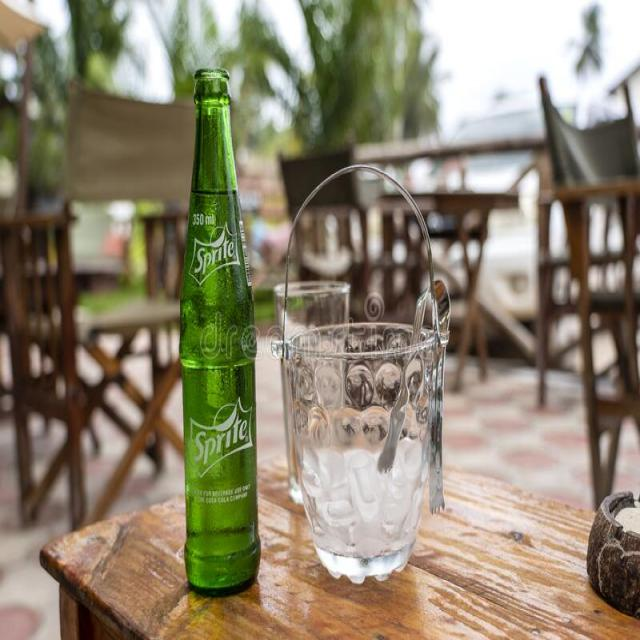Soda: (178, 70, 260, 600)
